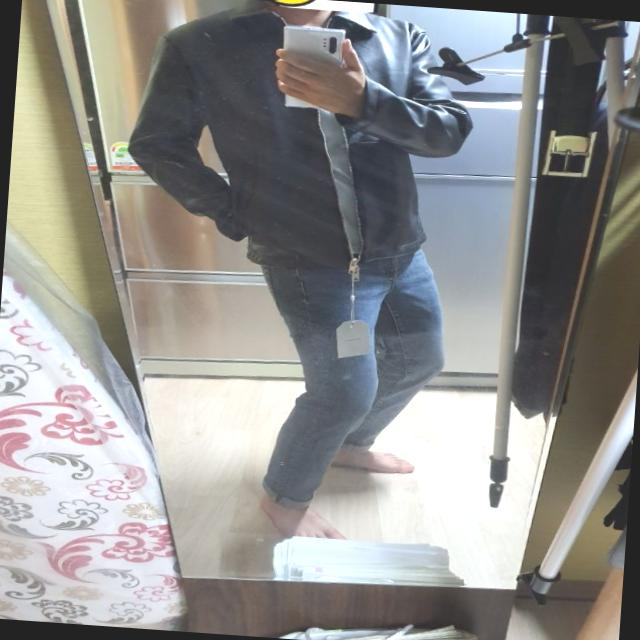blazer: (119, 0, 482, 280)
denimpants: (247, 234, 451, 520)
